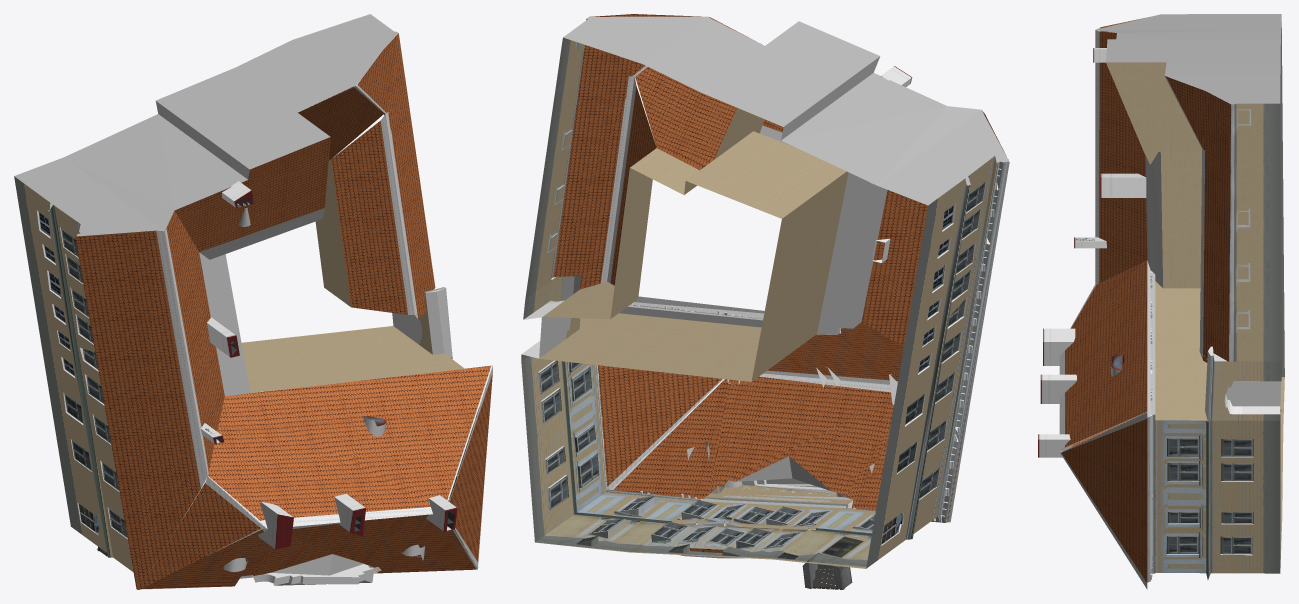
File: Kiriku-2-origo.obj
3 renders of one model, left to right at view 1: azimuth 30°, elevation 25°; view 2: azimuth 150°, elevation 25°; view 3: azimuth 270°, elevation 25°, orthographic. The views are drawn at different scales.
Visible parts, largest first — view 1: Kiriku_tn_2; view 2: Kiriku_tn_2; view 3: Kiriku_tn_2.
Boxes of the visible parts, x1=… form: Kiriku_tn_2: x1=14, y1=14, x2=492, y2=589; Kiriku_tn_2: x1=521, y1=14, x2=1009, y2=589; Kiriku_tn_2: x1=1038, y1=14, x2=1284, y2=589.
Bounding box in the file's own units: 31.44 × 37 × 17.6.
